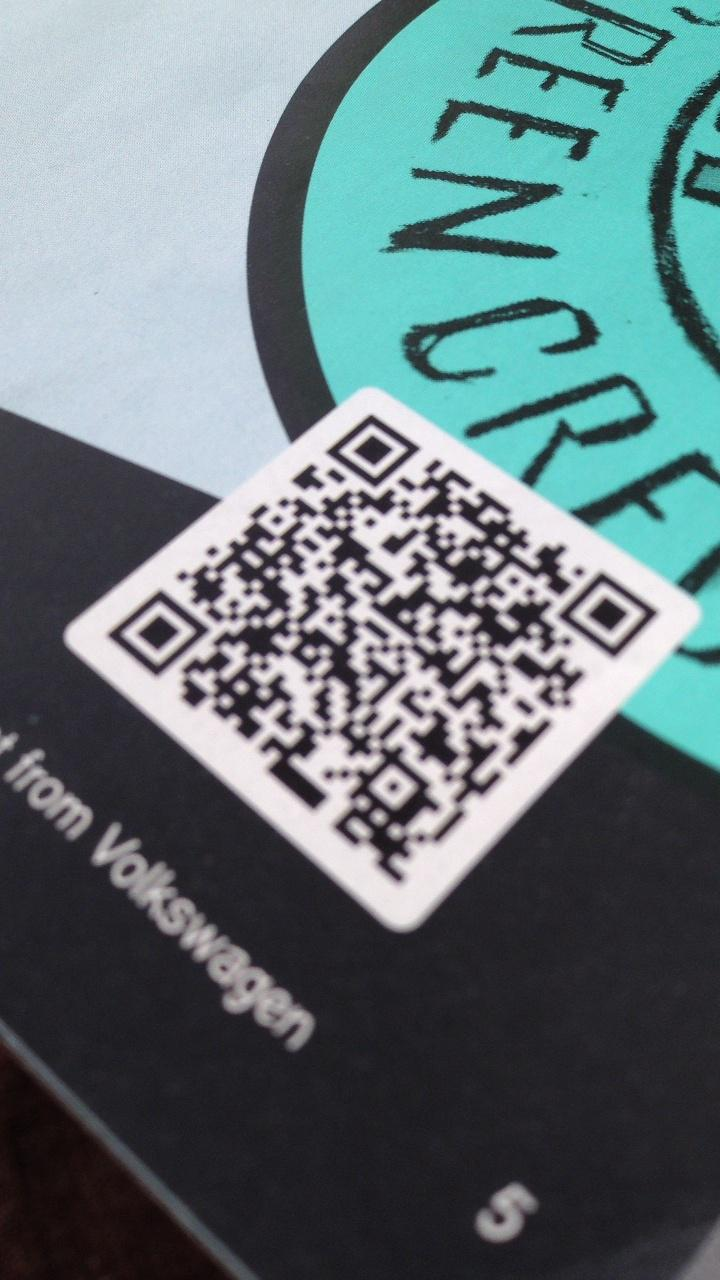Finder pattern: (551, 566, 664, 657), (104, 585, 210, 679), (323, 412, 422, 486)
